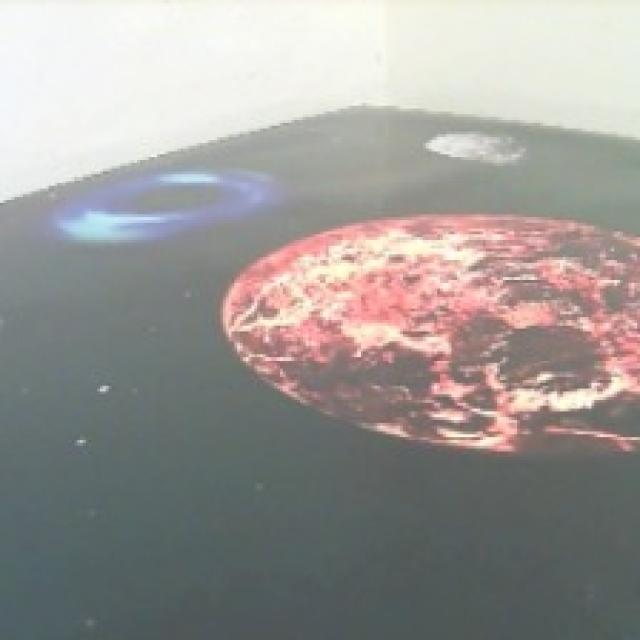Black Hole: (51, 166, 272, 243), (426, 131, 522, 169)
Sun: (217, 214, 640, 463)
